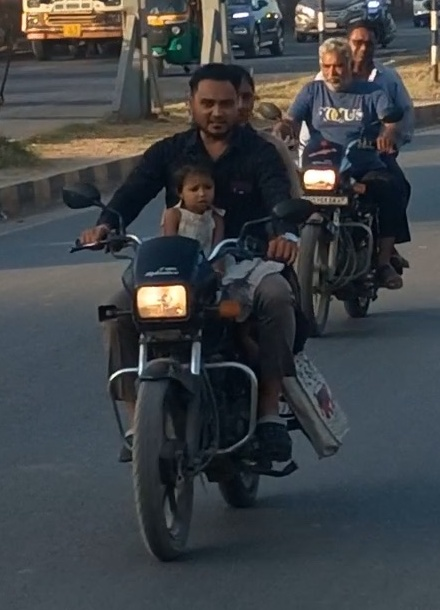BikeWithRider: (50, 52, 370, 572), (267, 11, 430, 348)
NoHelmet: (182, 60, 247, 138), (165, 156, 222, 214), (307, 34, 362, 90), (223, 61, 271, 124), (345, 20, 385, 69)
